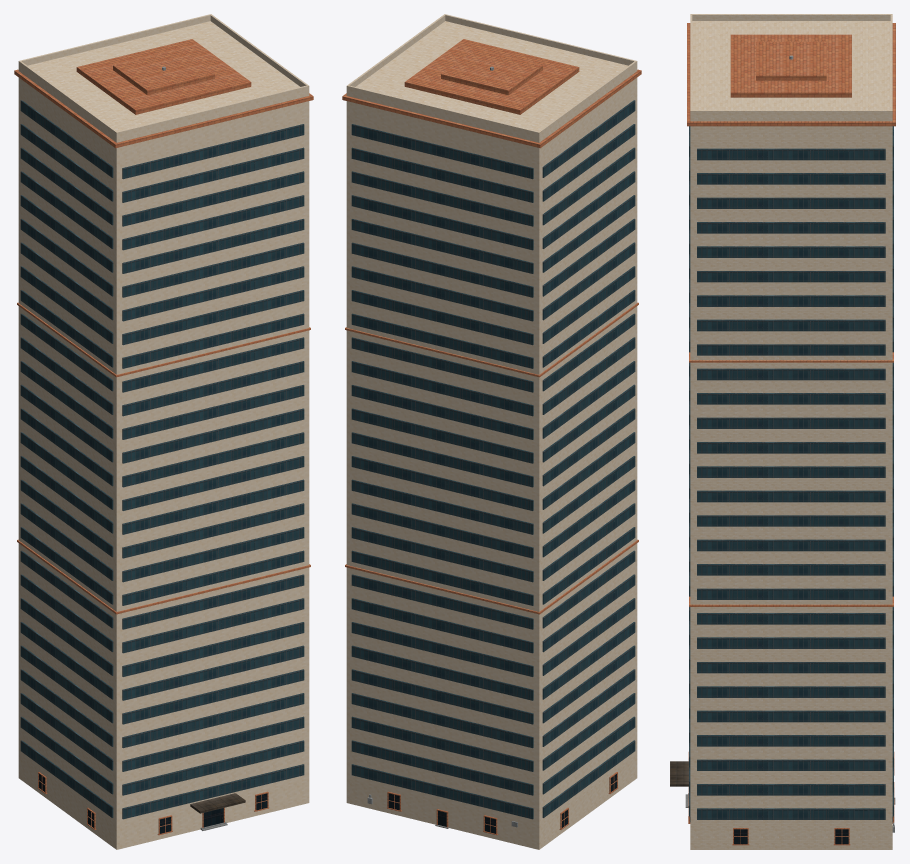
Rendered from washington-court-tower_lod0.gltf.
3 views of the same model, side by side, from view 1: azimuth 30°, elevation 25°; view 2: azimuth 150°, elevation 25°; view 3: azimuth 270°, elevation 25° (orthographic). The views are drawn at different scales.
Parts seen in each view (by area): view 1: washington-court-tower_main, washington-court-tower_fen_07-glass-curtain-blue_0, washington-court-tower__crown_step_1, washington-court-tower__crown_step_2, washington-court-tower__cornice, washington-court-tower__parapet_front, washington-court-tower__parapet_back, washington-court-tower__string_course_2, washington-court-tower__string_course_1, washington-court-tower_fen_07-glass-curtain-blue_2_t, washington-court-tower__parapet_left, washington-court-tower__parapet_right (+1 smaller); view 2: washington-court-tower_main, washington-court-tower_fen_07-glass-curtain-blue_0, washington-court-tower__crown_step_1, washington-court-tower__crown_step_2, washington-court-tower__cornice, washington-court-tower__parapet_back, washington-court-tower__parapet_front, washington-court-tower__string_course_2, washington-court-tower__string_course_1, washington-court-tower__parapet_left, washington-court-tower__parapet_right, washington-court-tower_fen_07-glass-curtain-blue_2_t (+1 smaller); view 3: washington-court-tower_main, washington-court-tower_fen_07-glass-curtain-blue_0, washington-court-tower__crown_step_1, washington-court-tower__crown_step_2, washington-court-tower__cornice, washington-court-tower__parapet_left, washington-court-tower__parapet_right, washington-court-tower__string_course_2, washington-court-tower__string_course_1, washington-court-tower__marquee, washington-court-tower_fen_07-glass-curtain-blue_2_t.
Boxes of the visible parts, x1,y1,x2,y2 form: washington-court-tower_main: (18,21,309,849); washington-court-tower_fen_07-glass-curtain-blue_0: (20,100,304,819); washington-court-tower__crown_step_1: (76,39,251,114); washington-court-tower__crown_step_2: (113,49,214,95); washington-court-tower__cornice: (14,69,313,148); washington-court-tower__parapet_front: (115,85,309,138); washington-court-tower__parapet_back: (18,14,211,67); washington-court-tower__string_course_2: (17,302,310,377); washington-court-tower__string_course_1: (17,539,310,614); washington-court-tower_fen_07-glass-curtain-blue_2_t: (39,774,267,833); washington-court-tower__parapet_left: (19,61,116,137); washington-court-tower__parapet_right: (210,15,307,86); washington-court-tower_main: (346,21,637,849); washington-court-tower_fen_07-glass-curtain-blue_0: (351,100,635,819); washington-court-tower__crown_step_1: (404,39,579,114); washington-court-tower__crown_step_2: (441,49,542,95); washington-court-tower__cornice: (342,69,641,148); washington-court-tower__parapet_back: (346,85,540,138); washington-court-tower__parapet_front: (444,14,637,67); washington-court-tower__string_course_2: (345,302,638,377); washington-court-tower__string_course_1: (345,539,638,614); washington-court-tower__parapet_left: (539,61,636,137); washington-court-tower__parapet_right: (348,15,445,86); washington-court-tower_fen_07-glass-curtain-blue_2_t: (388,774,616,833); washington-court-tower_main: (690,21,892,849); washington-court-tower_fen_07-glass-curtain-blue_0: (689,126,893,819); washington-court-tower__crown_step_1: (730,34,851,97); washington-court-tower__crown_step_2: (756,41,826,80); washington-court-tower__cornice: (687,23,895,126); washington-court-tower__parapet_left: (692,14,890,20); washington-court-tower__parapet_right: (692,110,890,116); washington-court-tower__string_course_2: (689,352,893,362); washington-court-tower__string_course_1: (689,596,893,606); washington-court-tower__marquee: (670,761,688,786); washington-court-tower_fen_07-glass-curtain-blue_2_t: (690,817,892,844).
Bounding box in the file's own units: 35 × 122 × 33.5.
